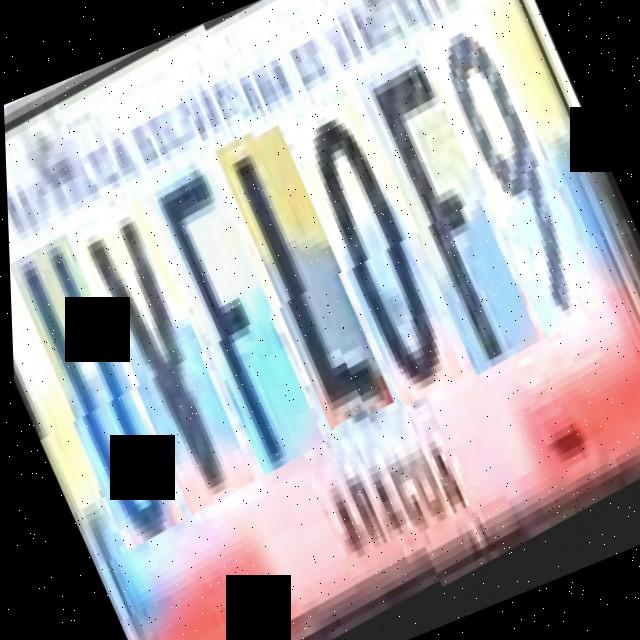9: (421, 18, 615, 346)
F: (353, 60, 551, 382), (143, 168, 336, 484)
L: (214, 132, 403, 440)
O: (282, 96, 473, 412)
U: (7, 241, 193, 556)
V: (69, 205, 264, 522)
